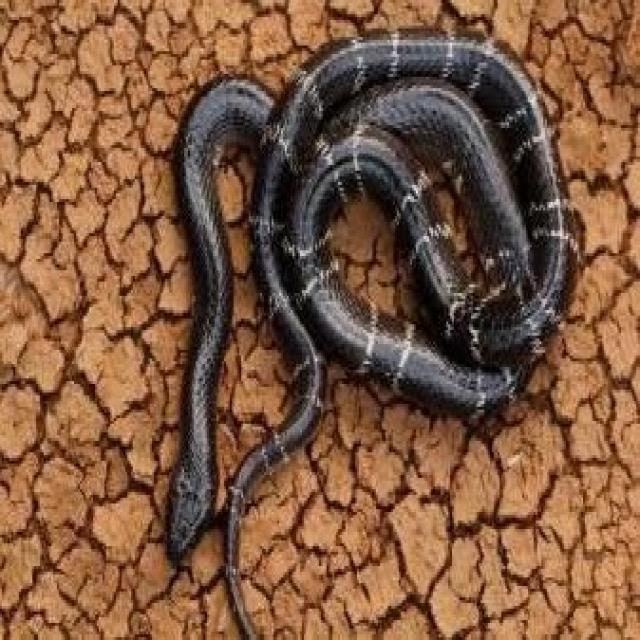Snake: (162, 26, 562, 579)
